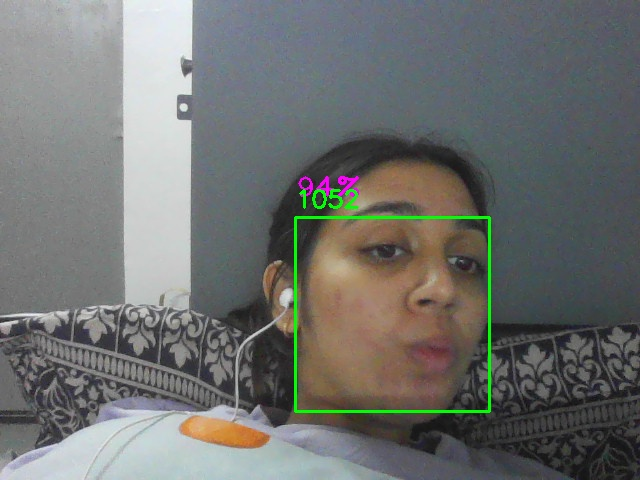real: (295, 217, 490, 412)
